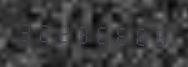eight: (131, 21, 149, 48)
five: (150, 21, 168, 49)
six: (93, 19, 111, 47), (112, 20, 130, 48)
three: (17, 17, 35, 44), (74, 19, 92, 46)
two: (36, 17, 54, 45), (55, 18, 73, 46)
